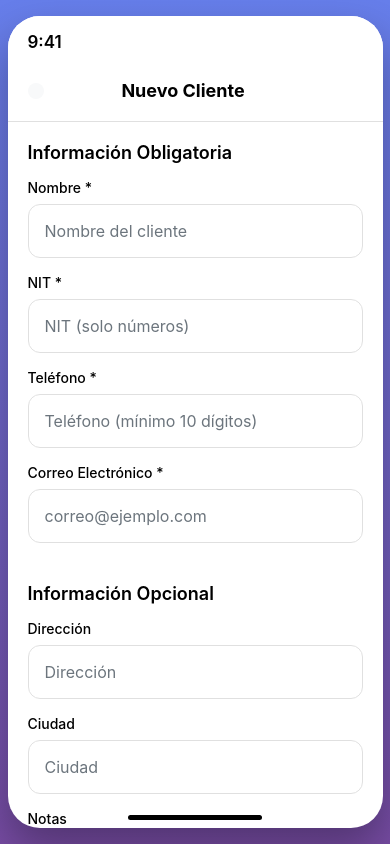
Test: NewClientScreen › Preview Modal › displays preview with form data
Type "Juan Pérez" into the field with placeholder "Nombre del cliente" at [195, 231], box [28,204,362,258]
Type "1234567890" into the field with placeholder "NIT (solo números)" at [195, 326], box [28,299,362,353]
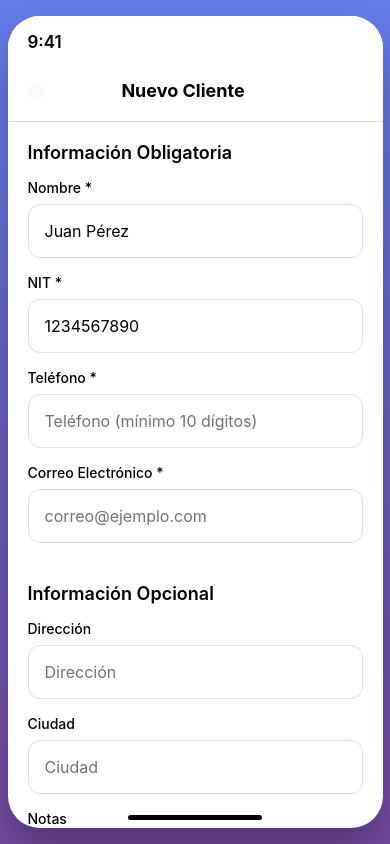
Type "3001234567" into the field with placeholder "Teléfono (mínimo 10 dígitos)" at [195, 421], box [28,394,362,448]
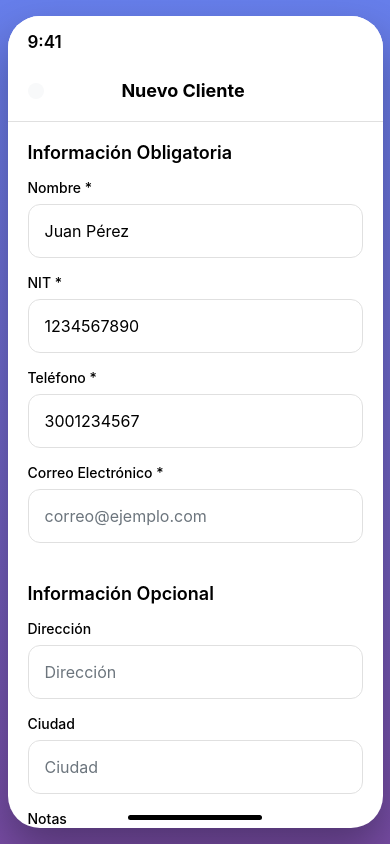
Type "juan@example.com" into the field with placeholder "correo@ejemplo.com" at [195, 516], box [28,489,362,543]
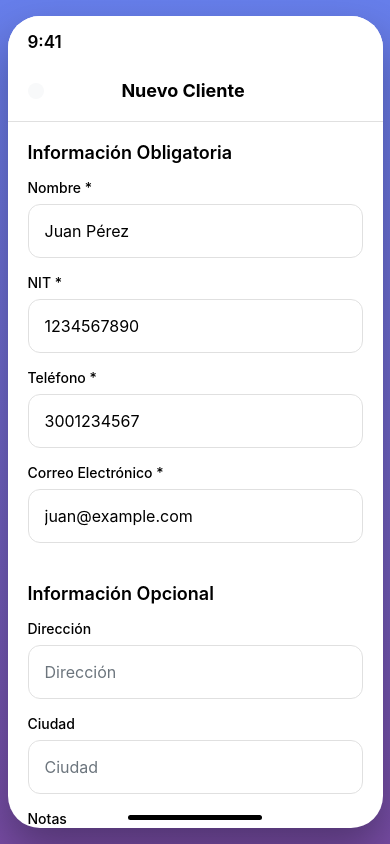
Type "Calle 123" into the field with placeholder "Dirección" at [195, 672], box [28,645,362,699]
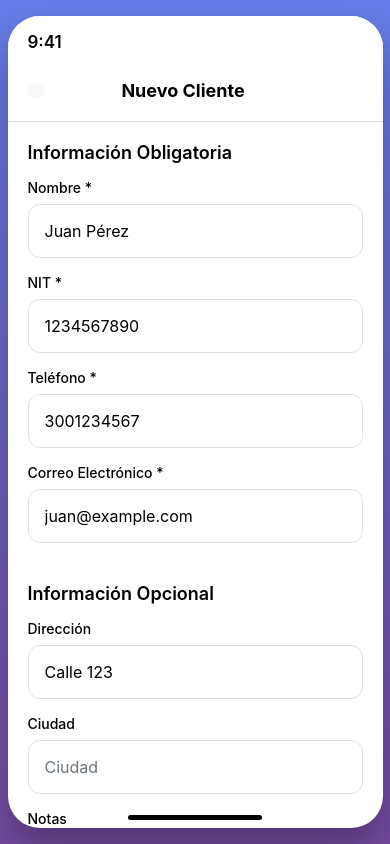
Type "Bogotá" into the field with placeholder "Ciudad" at [195, 767], box [28,740,362,794]
(page scrolled)
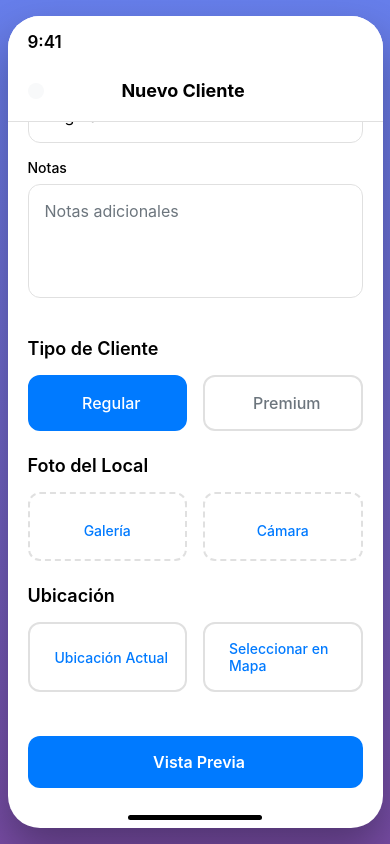
Click the text "Vista Previa" at [199, 762], box [153,752,245,772]
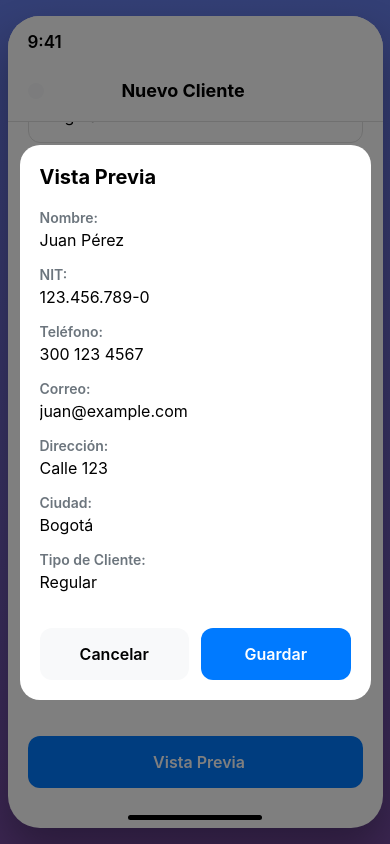
Check: the text "Juan Pérez" is shown, box [40,230,124,250]
Check: the text "Calle 123" is shown, box [40,458,108,478]
Check: the text "Bogotá" is shown, box [40,514,93,534]
